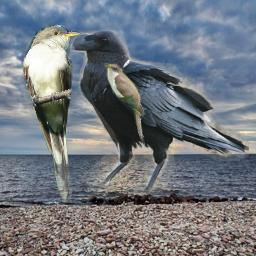Crow: (68, 30, 249, 194)
Cuckoo: (23, 24, 81, 204), (101, 61, 146, 146)
